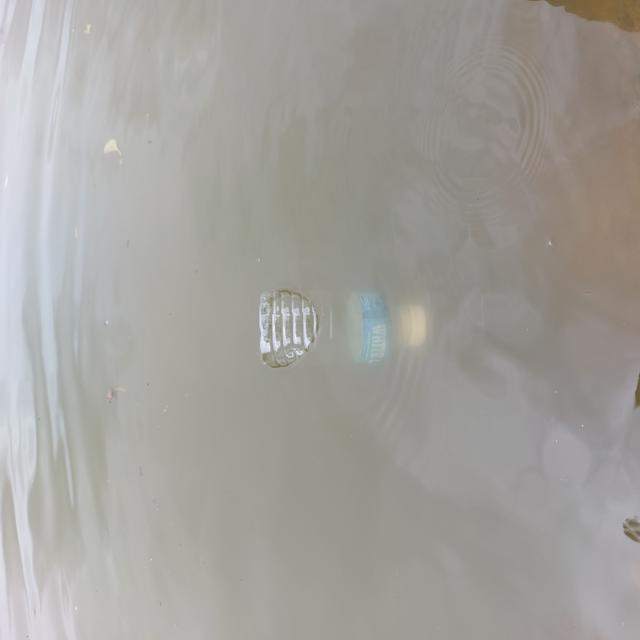waterbottle: (255, 273, 428, 375)
